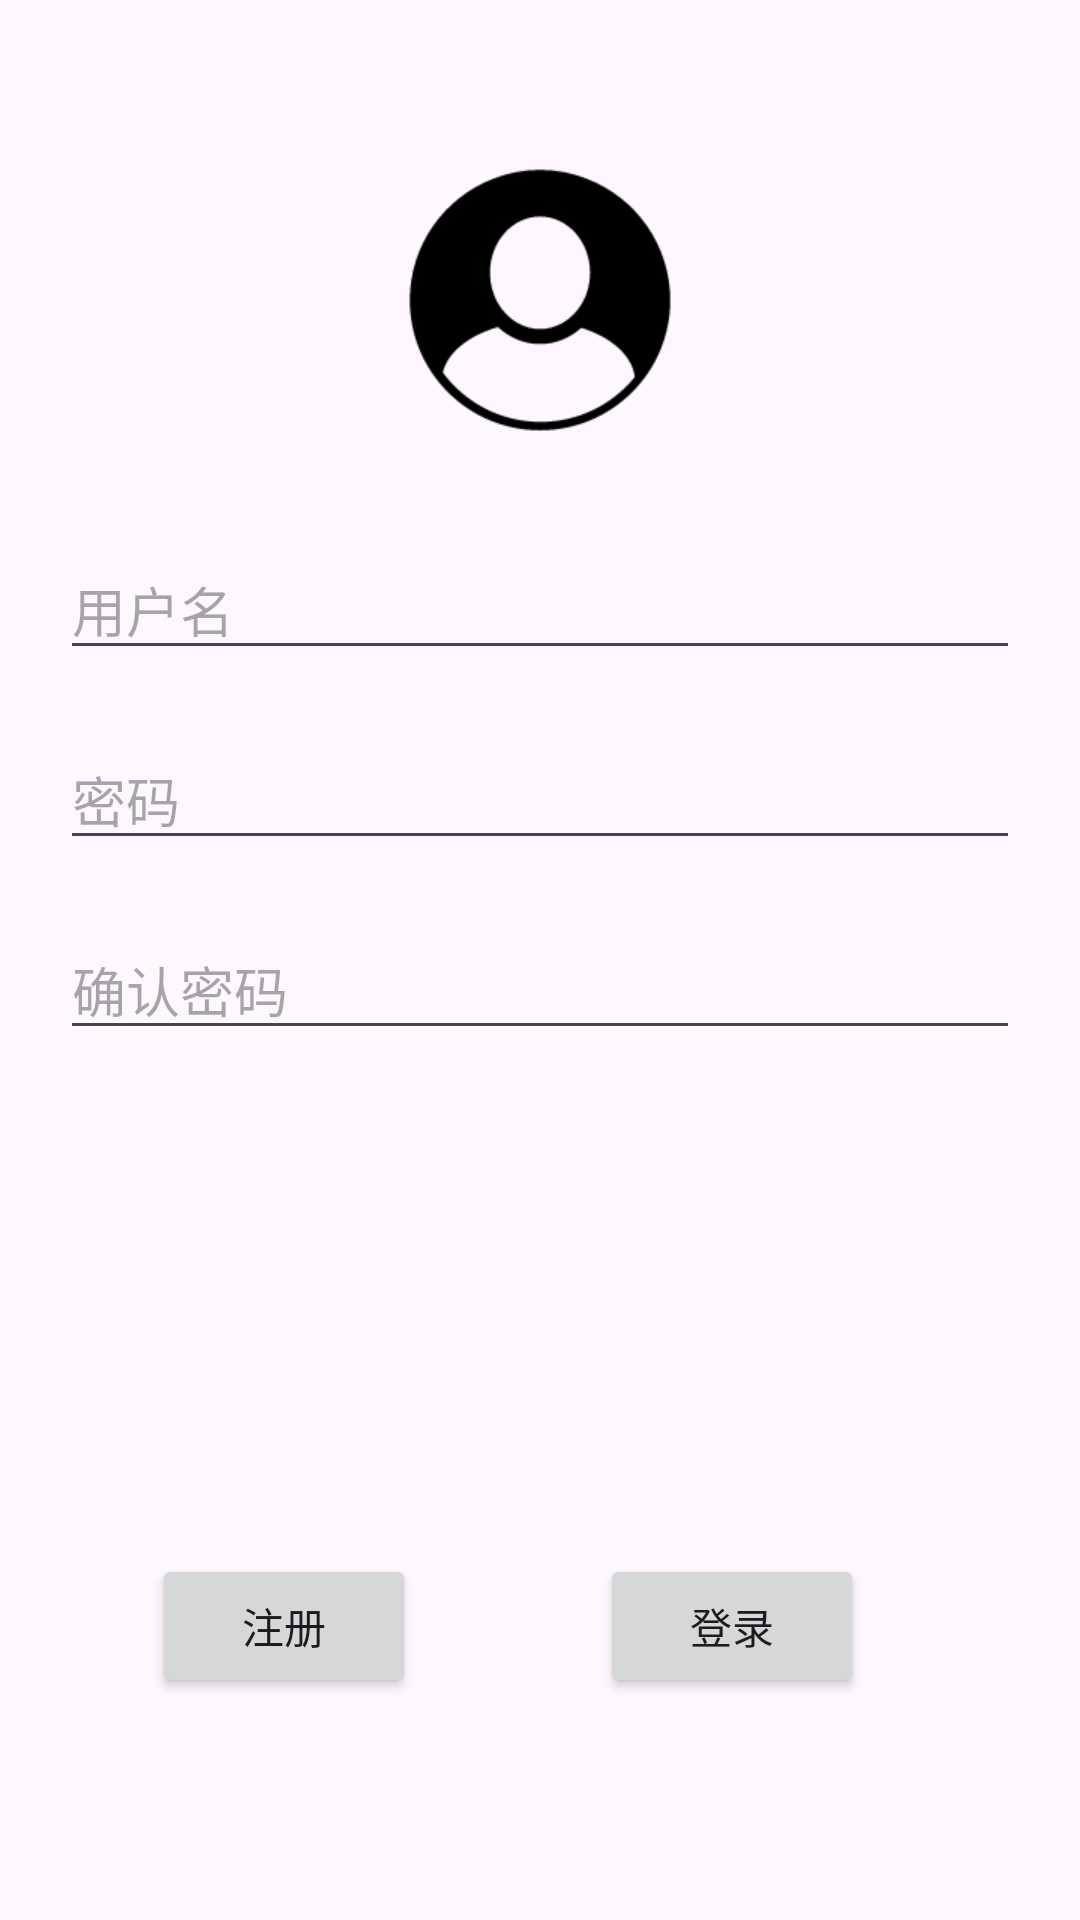

Locate icon controls on the screen. Image size 1080w x 1920h, boxes as (x1, y1, x2, y2).
touxiang: (409, 169, 671, 431)
